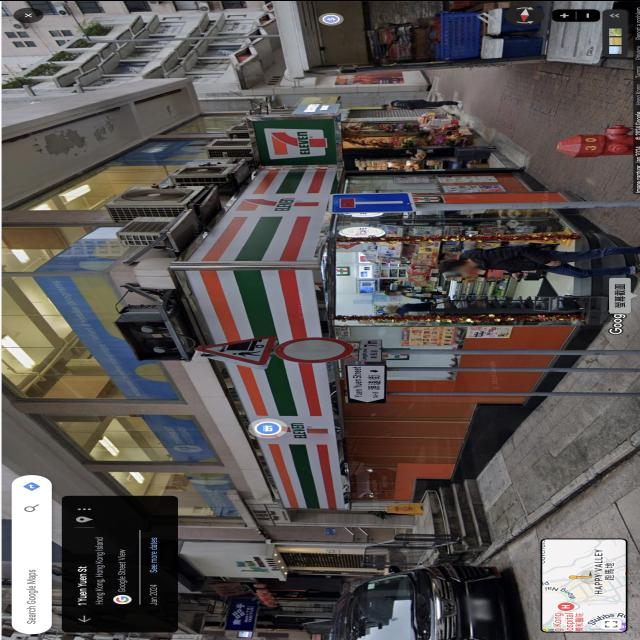Order-Sign: (275, 337, 354, 362), (358, 338, 382, 361)
Street-Direction-Sign: (346, 364, 386, 403)
Warning-Sign: (193, 334, 276, 365)
